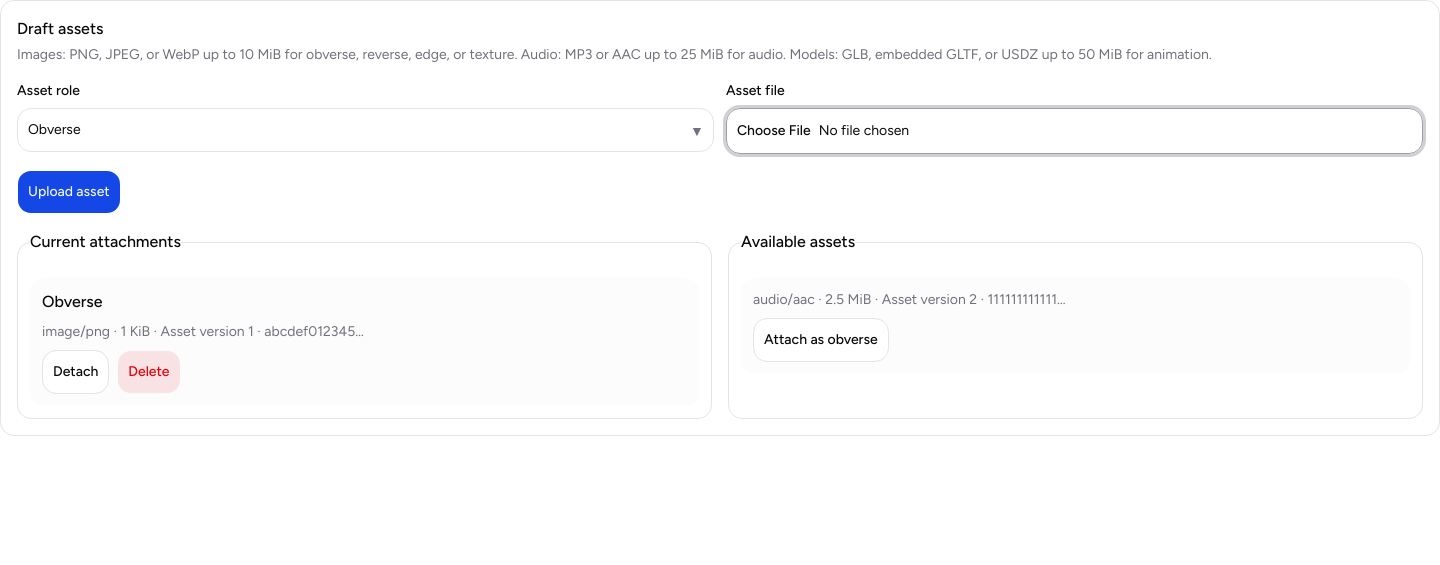
Test: AssetAttachmentsEditor › clears a stale conflict only after the latest asset and content version synchronize
Earlier steps of the test are not shown.
Later steps or results of the test are not shown.
Click the button "Upload asset": x=69, y=192 top-left (17, 170), bottom-right (121, 214)
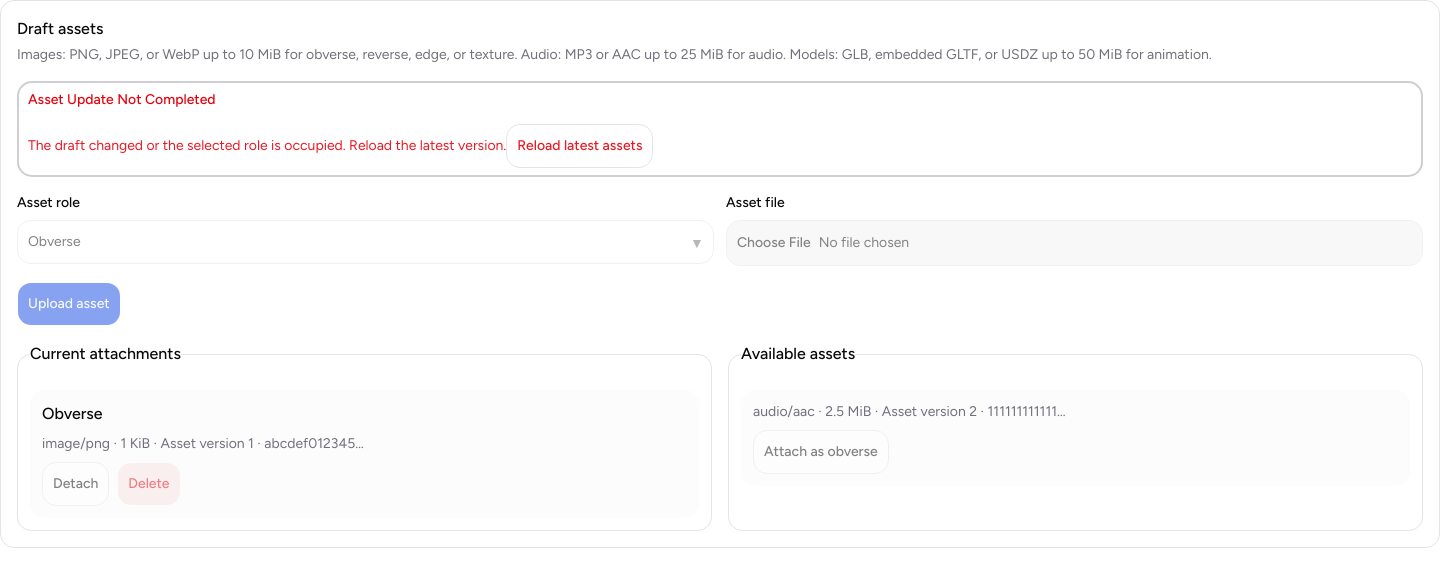
Click the button "Reload latest assets": x=580, y=146 top-left (506, 124), bottom-right (653, 168)
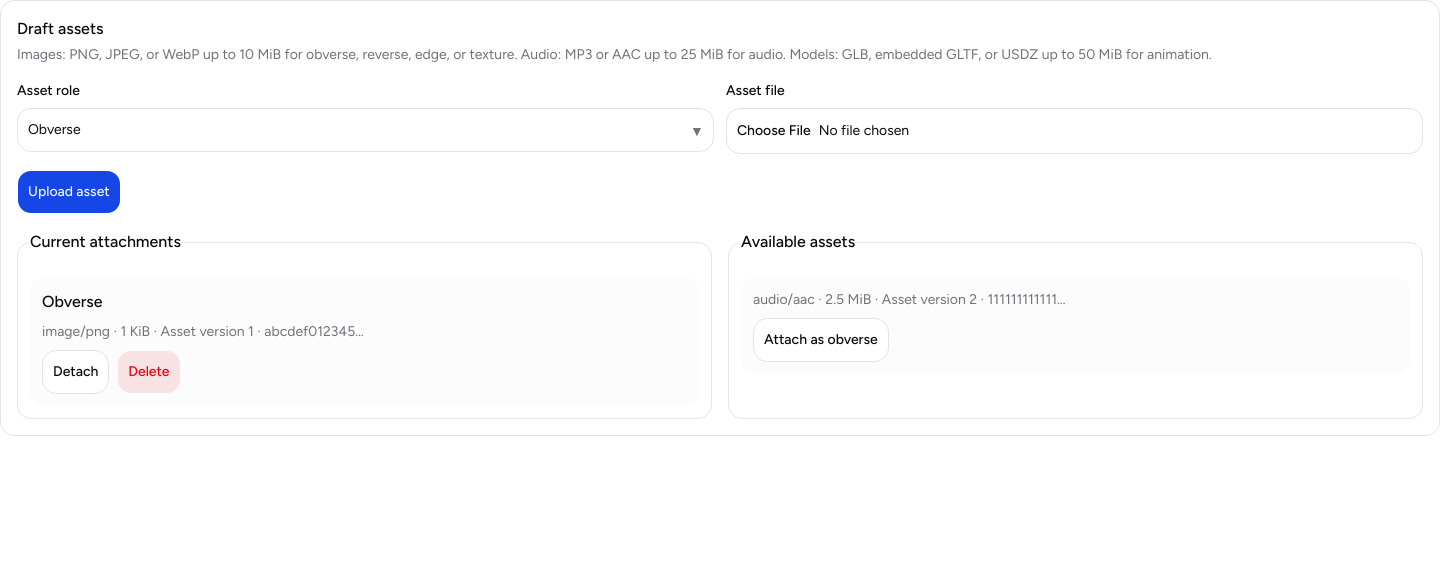
Expected: the message is gone
Expected: the dropdown named "Asset role" is enabled, top-left (17, 108), bottom-right (714, 152)
Expected: the file field labelled "Asset file" is enabled, top-left (726, 108), bottom-right (1423, 154)
